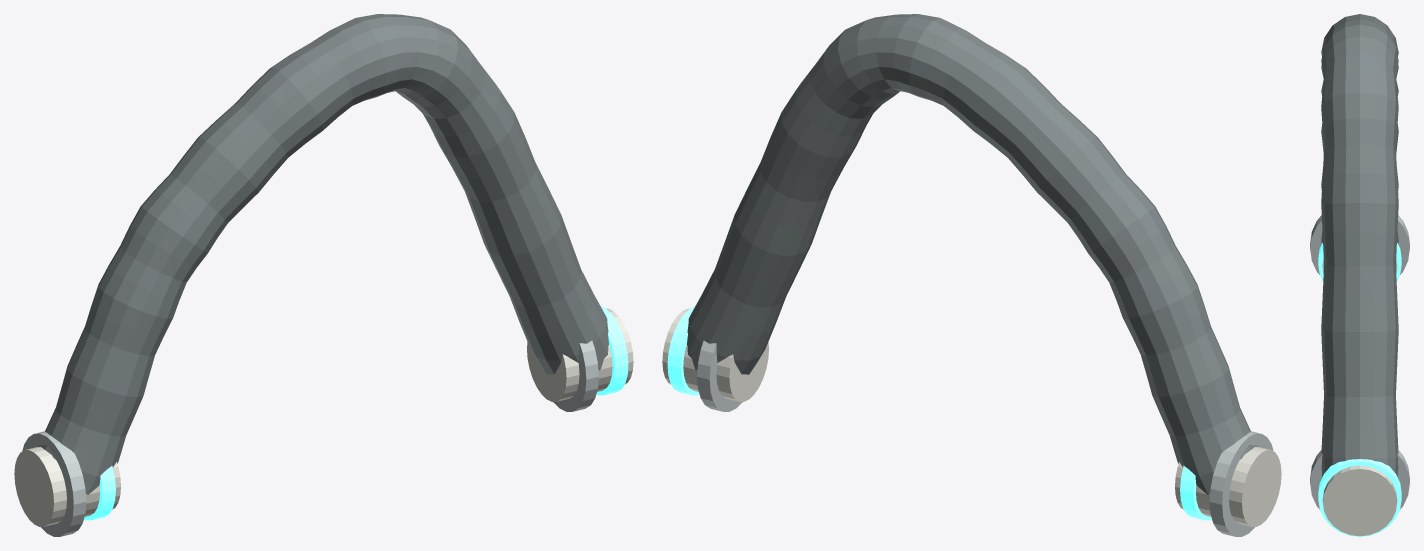
Rendered from s7-i03-hose-soft-arch-0p5.glb.
The picture shows the model from 3 angles, left to right: view 1: azimuth 30°, elevation 25°; view 2: azimuth 150°, elevation 25°; view 3: azimuth 270°, elevation 25°; orthographic projection. The views are drawn at different scales.
Visible parts, largest first — view 1: 000_actual_curved_hose_swept_3d, 001_end_0_sealing_socket, 004_end_1_sealing_socket, 003_end_0_locking_collar, 006_end_1_locking_collar, 005_end_1_cyan_snap_seal, 002_end_0_cyan_snap_seal; view 2: 000_actual_curved_hose_swept_3d, 001_end_0_sealing_socket, 004_end_1_sealing_socket, 003_end_0_locking_collar, 006_end_1_locking_collar, 005_end_1_cyan_snap_seal, 002_end_0_cyan_snap_seal; view 3: 000_actual_curved_hose_swept_3d, 004_end_1_sealing_socket, 005_end_1_cyan_snap_seal, 003_end_0_locking_collar, 006_end_1_locking_collar, 002_end_0_cyan_snap_seal.
Boxes of the visible parts, x1,y1,x2,y2 form: 000_actual_curved_hose_swept_3d: [38, 14, 608, 494]; 001_end_0_sealing_socket: [14, 447, 120, 526]; 004_end_1_sealing_socket: [527, 308, 633, 401]; 003_end_0_locking_collar: [22, 431, 86, 536]; 006_end_1_locking_collar: [553, 340, 598, 411]; 005_end_1_cyan_snap_seal: [596, 306, 628, 395]; 002_end_0_cyan_snap_seal: [84, 465, 115, 520]; 000_actual_curved_hose_swept_3d: [687, 14, 1257, 494]; 001_end_0_sealing_socket: [1175, 447, 1281, 526]; 004_end_1_sealing_socket: [662, 308, 768, 401]; 003_end_0_locking_collar: [1209, 431, 1273, 536]; 006_end_1_locking_collar: [697, 340, 742, 411]; 005_end_1_cyan_snap_seal: [667, 306, 699, 395]; 002_end_0_cyan_snap_seal: [1180, 465, 1211, 520]; 000_actual_curved_hose_swept_3d: [1321, 14, 1398, 476]; 004_end_1_sealing_socket: [1322, 465, 1397, 536]; 005_end_1_cyan_snap_seal: [1318, 459, 1401, 536]; 003_end_0_locking_collar: [1310, 215, 1409, 274]; 006_end_1_locking_collar: [1310, 450, 1409, 509]; 002_end_0_cyan_snap_seal: [1318, 243, 1401, 281].
Bounding box in the file's own units: 0.588 × 0.4223 × 0.0935.
